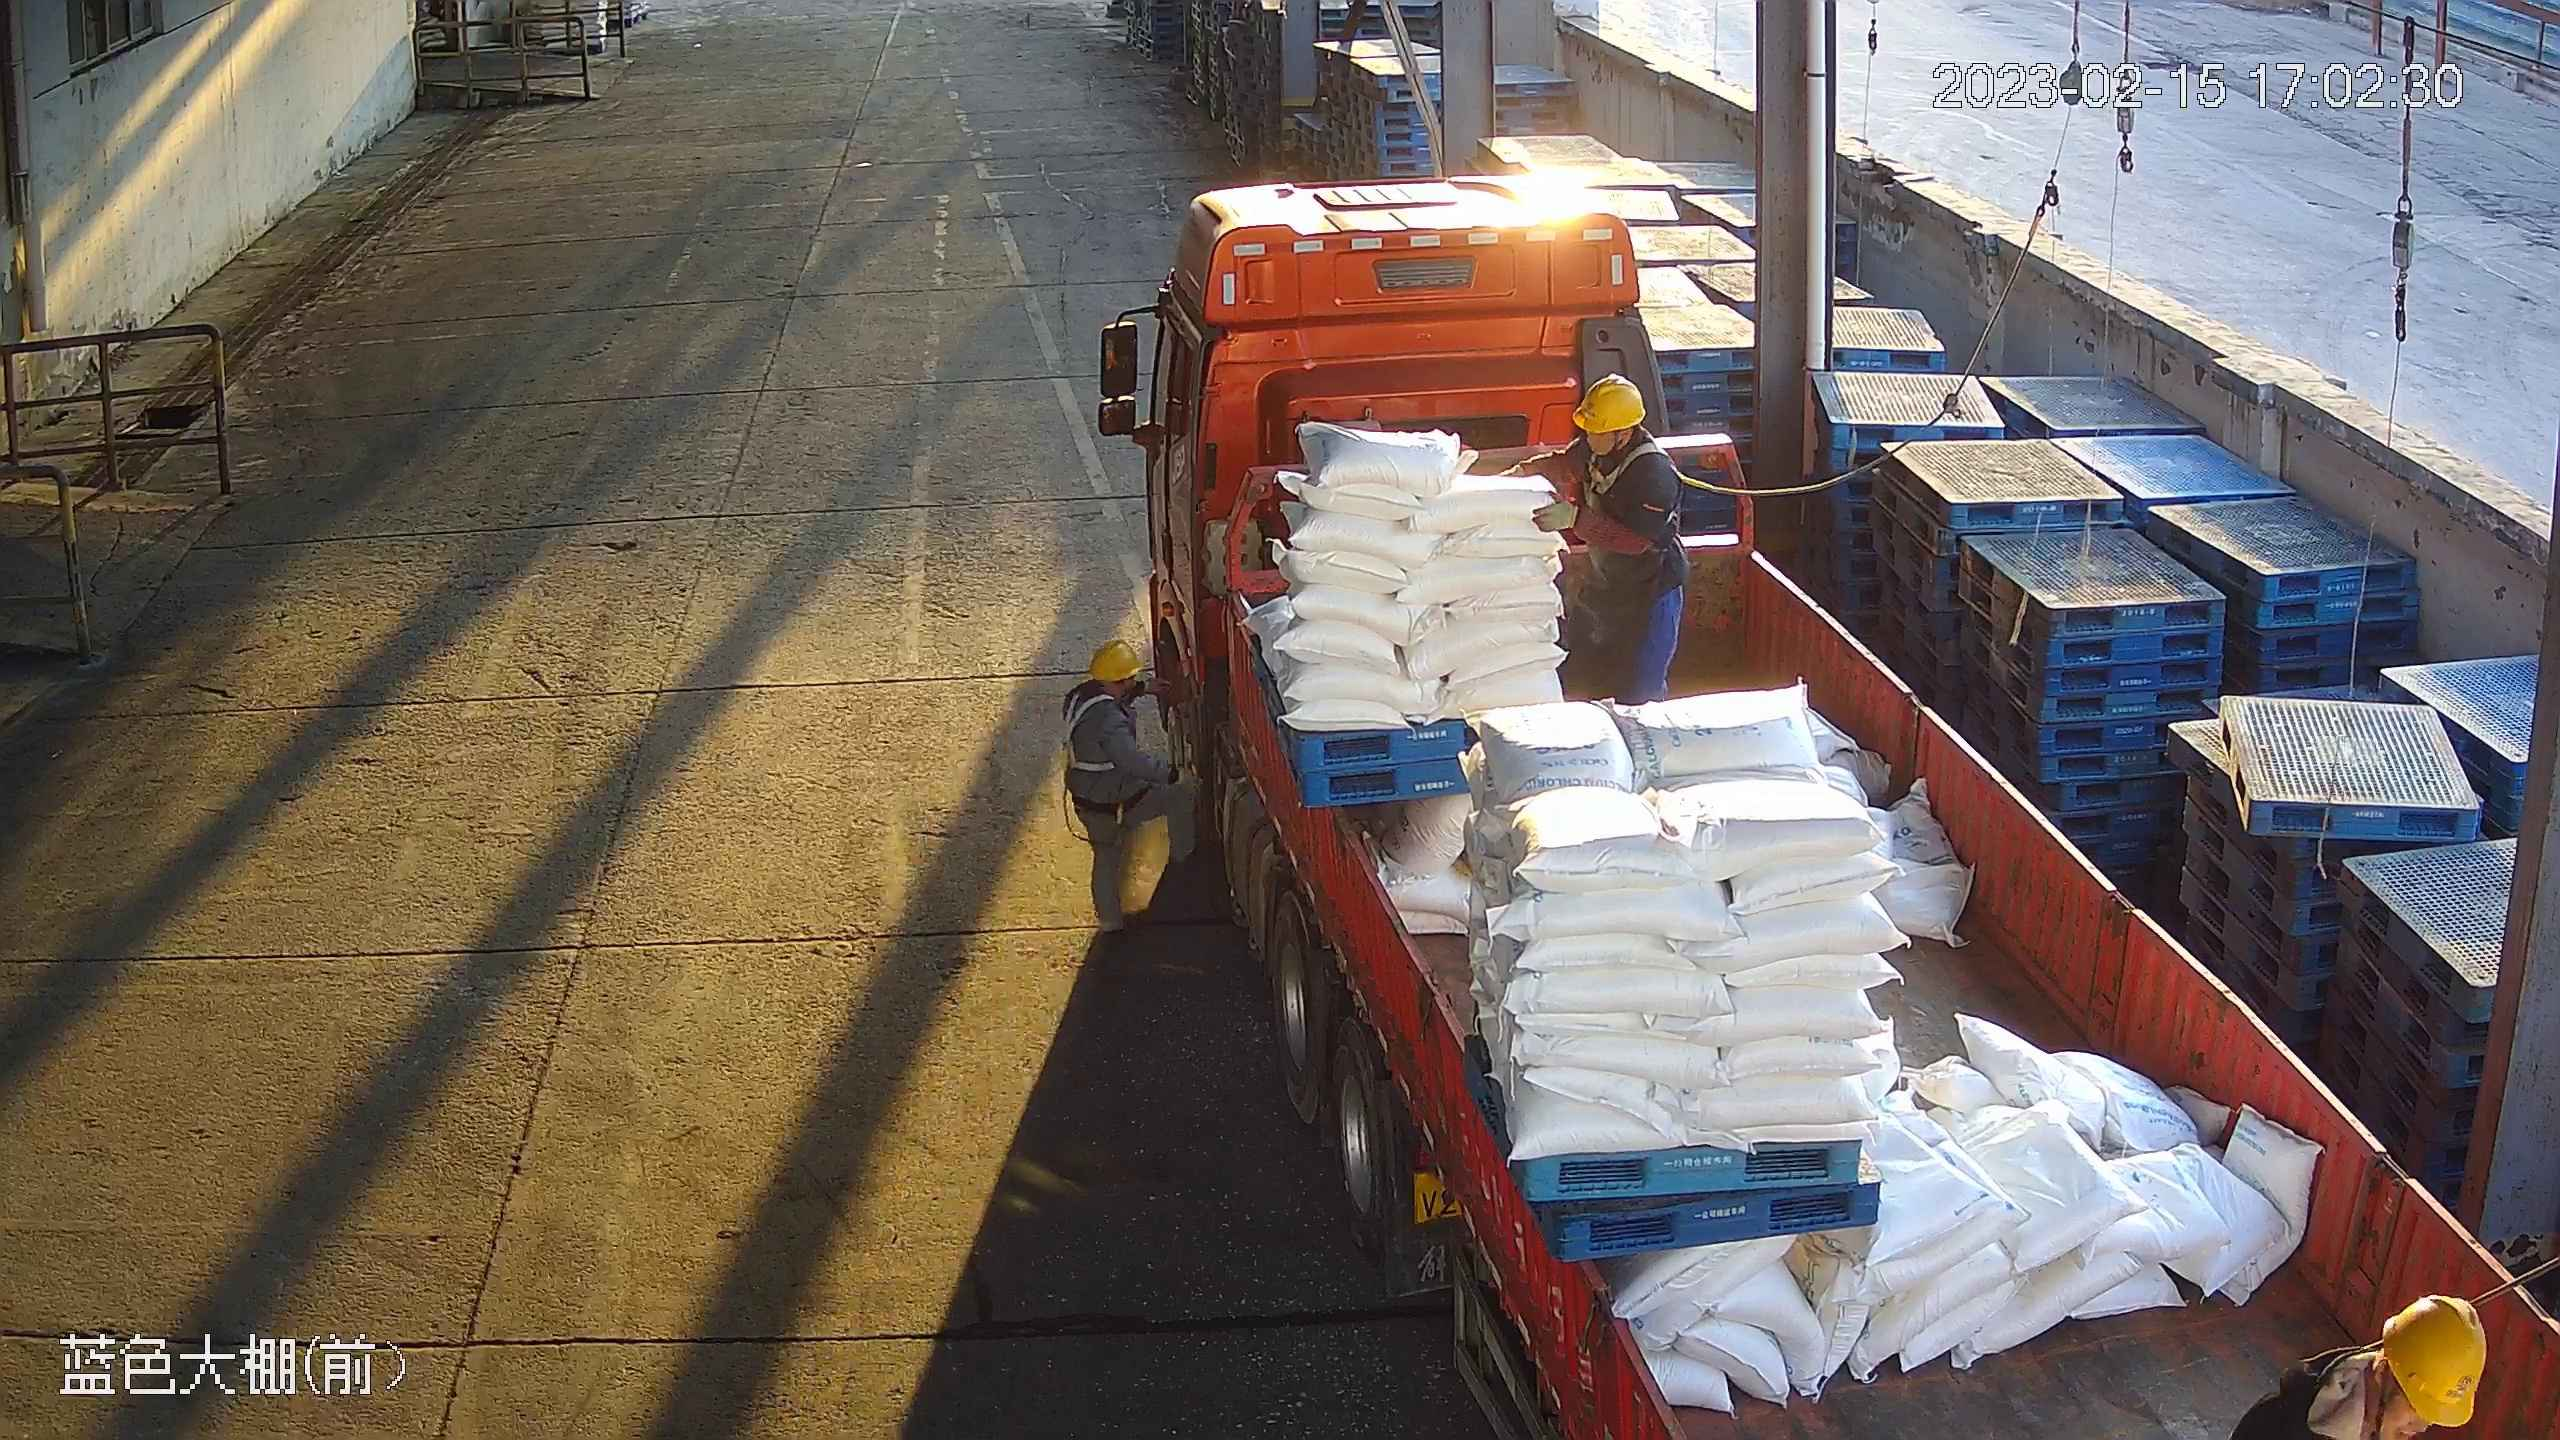belt: (1582, 435, 1688, 505), (1057, 697, 1122, 773)
head: (1559, 364, 1679, 490), (1053, 638, 1159, 732)
helmet: (2375, 1288, 2499, 1429), (1568, 373, 1648, 436), (1098, 632, 1140, 682)
people: (1544, 373, 1701, 714), (1051, 633, 1207, 932)
truck: (1094, 184, 2560, 1440)
